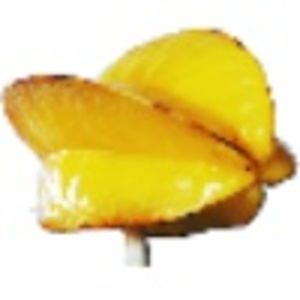carambola: (1, 26, 300, 266)
